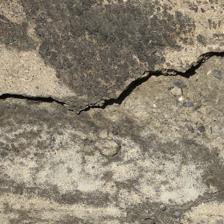Crack: (2, 25, 221, 92)
